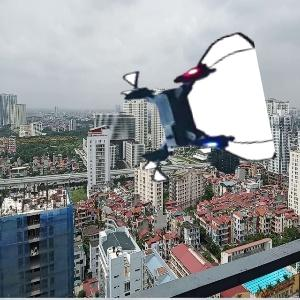drone: (123, 41, 268, 186)
